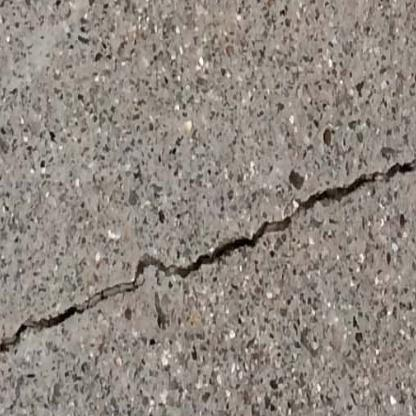Cracks: (0, 214, 296, 359), (293, 150, 416, 216)
